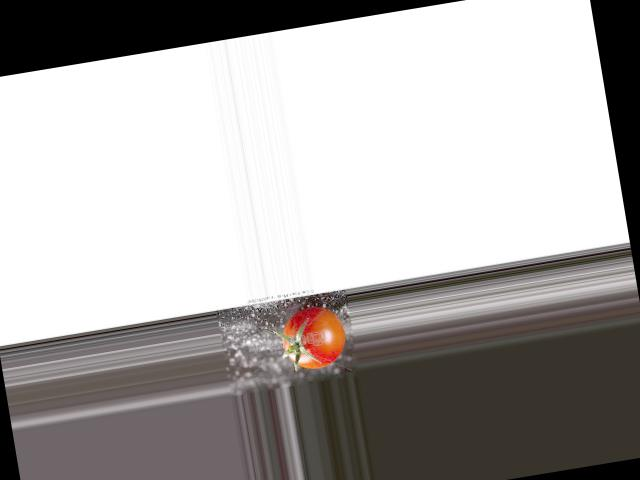tomato: (277, 303, 349, 373)
